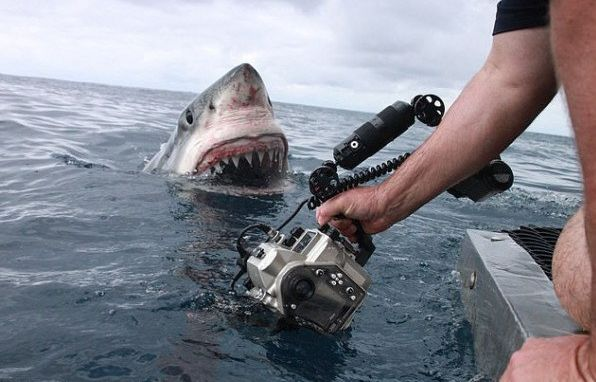shark: (132, 56, 306, 208)
